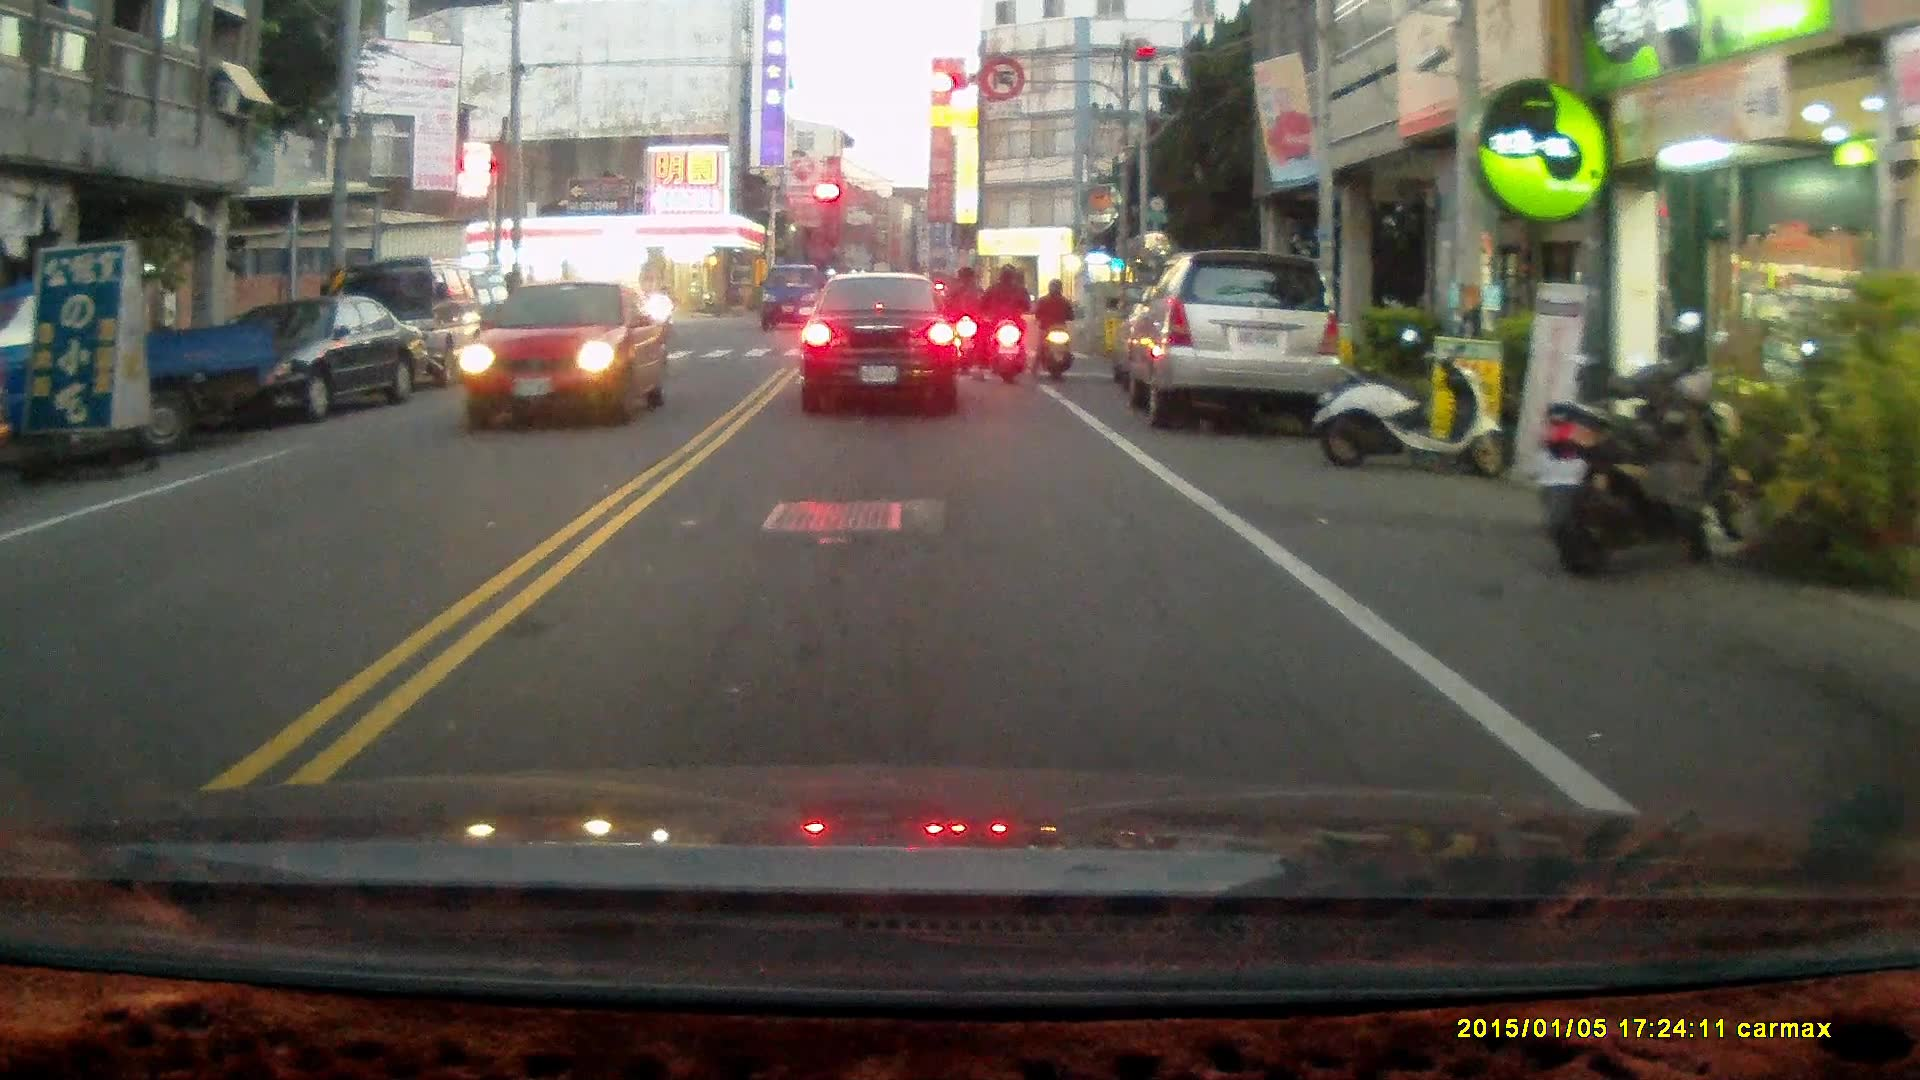rider: (974, 263, 1031, 388), (1029, 277, 1076, 385), (938, 266, 980, 377), (644, 281, 677, 343)
vehicle: (1119, 249, 1352, 437), (449, 276, 669, 429), (177, 293, 421, 421), (799, 270, 959, 418), (322, 253, 483, 395)
